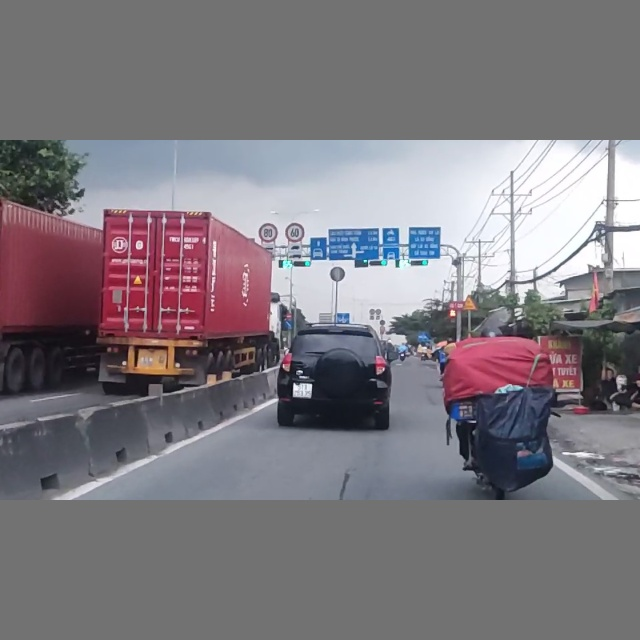P.102: (285, 313, 292, 319)
P.127*60: (285, 222, 305, 243)
P.127*80: (258, 222, 279, 244)
R.302a: (284, 321, 293, 328)
W.245a: (462, 295, 478, 311)
